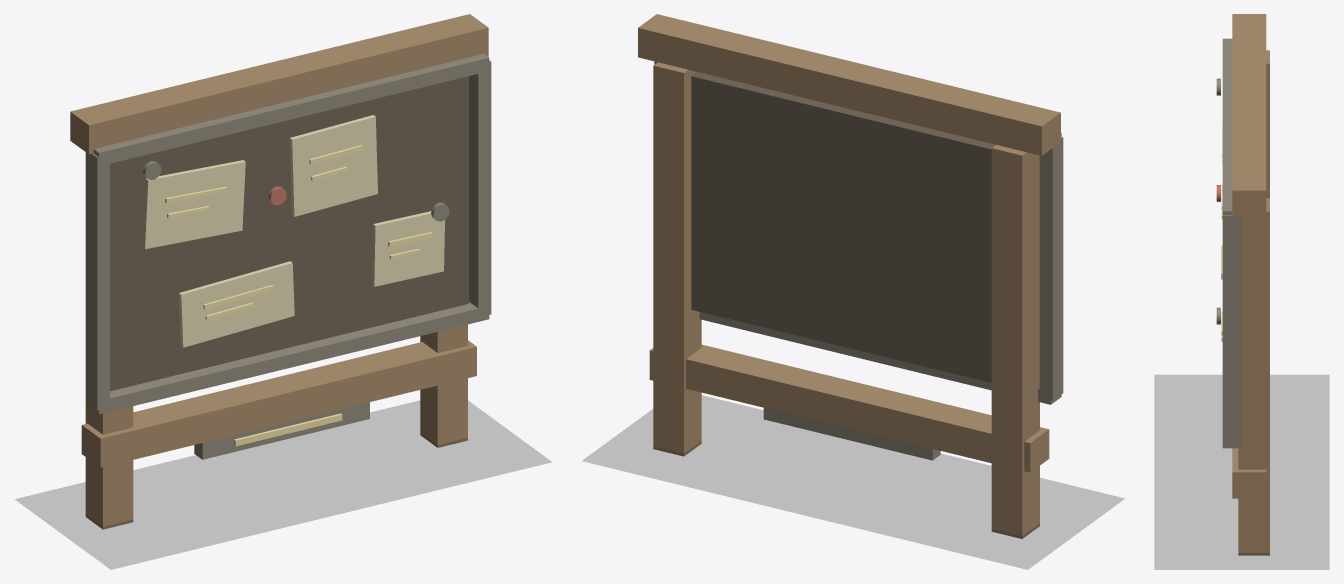
The model's file is job_board.glb.
3 renders of one model, left to right at view 1: azimuth 30°, elevation 25°; view 2: azimuth 150°, elevation 25°; view 3: azimuth 270°, elevation 25°, orthographic. The views are drawn at different scales.
Visible parts, largest first — view 1: dark_notice_backboard, soft_board_ground_shadow, top_crossbar, bottom_crossbar, lower_rusty_frame, upper_rusty_frame, posted_job_notice_1, posted_job_notice_2, left_rusty_frame, posted_job_notice_4, right_rusty_frame, left_weathered_post (+4 smaller); view 2: dark_notice_backboard, soft_board_ground_shadow, top_crossbar, left_weathered_post, right_weathered_post, bottom_crossbar, left_rusty_frame, lower_rusty_frame, small_hanging_notice_plate; view 3: soft_board_ground_shadow, right_weathered_post, top_crossbar, right_rusty_frame, upper_rusty_frame, bottom_crossbar, left_weathered_post.
Part boxes in pixels (<box>): dark_notice_backboard: <box>110,76,468,391</box>; soft_board_ground_shadow: <box>15,400,551,569</box>; top_crossbar: <box>70,14,488,154</box>; bottom_crossbar: <box>81,340,476,467</box>; lower_rusty_frame: <box>88,302,489,414</box>; upper_rusty_frame: <box>93,54,489,166</box>; posted_job_notice_1: <box>142,160,245,249</box>; posted_job_notice_2: <box>289,115,377,216</box>; left_rusty_frame: <box>86,153,109,410</box>; posted_job_notice_4: <box>179,261,294,347</box>; right_rusty_frame: <box>469,60,491,317</box>; left_weathered_post: <box>85,152,133,529</box>; dark_notice_backboard: <box>691,72,995,382</box>; soft_board_ground_shadow: <box>582,395,1124,569</box>; top_crossbar: <box>638,14,1060,155</box>; left_weathered_post: <box>991,145,1039,538</box>; right_weathered_post: <box>653,62,701,456</box>; bottom_crossbar: <box>649,344,1049,472</box>; left_rusty_frame: <box>1039,137,1063,400</box>; lower_rusty_frame: <box>699,312,1061,404</box>; small_hanging_notice_plate: <box>763,408,940,460</box>; soft_board_ground_shadow: <box>1154,375,1329,569</box>; right_weathered_post: <box>1238,198,1269,555</box>; top_crossbar: <box>1232,14,1266,217</box>; right_rusty_frame: <box>1222,215,1241,445</box>; upper_rusty_frame: <box>1222,38,1232,215</box>; bottom_crossbar: <box>1232,448,1266,498</box>; left_weathered_post: <box>1266,50,1269,198</box>.
Bounding box in the file's own units: 1.9 × 1.69 × 0.72.
